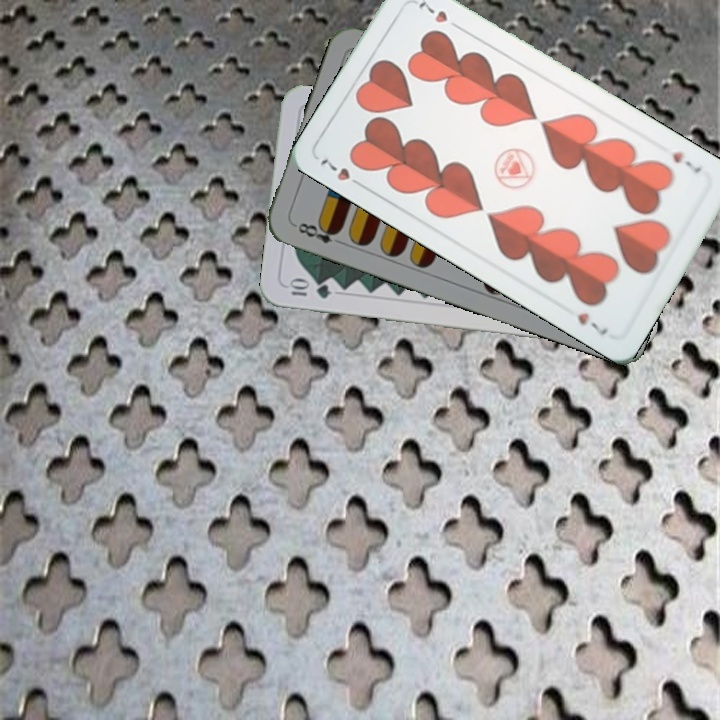E8: (290, 218, 347, 248)
G10: (284, 277, 333, 301)
H7: (315, 152, 368, 191), (668, 147, 704, 176)
